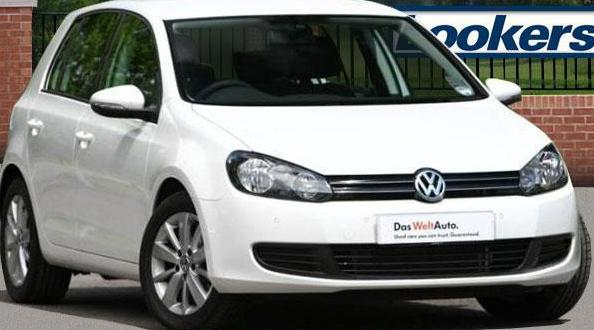front_view: (211, 126, 578, 294)
headlight: (230, 145, 343, 206)
side_glass: (41, 5, 165, 114)
